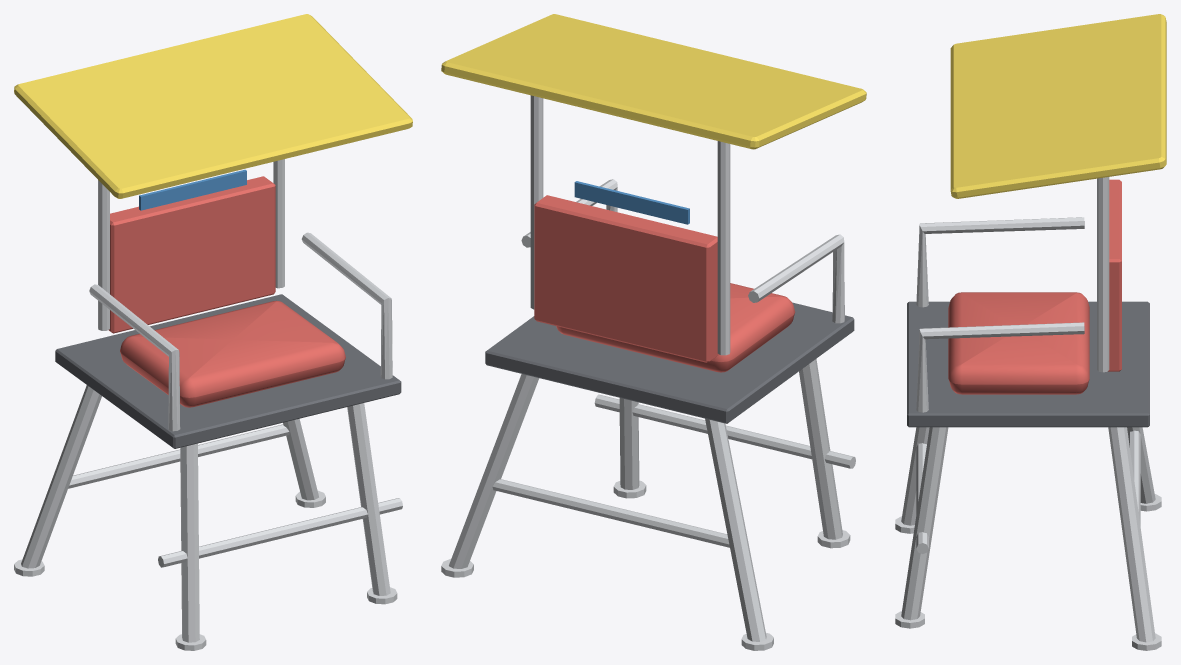
The model's file is public-swimming-baths-and-poolside-lifeguard-low-chair-f976fc78__35252.glb.
The picture shows the model from 3 angles, left to right: view 1: azimuth 30°, elevation 25°; view 2: azimuth 150°, elevation 25°; view 3: azimuth 270°, elevation 25°; orthographic projection. The views are drawn at different scales.
Visible parts, largest first — view 1: lifeguard-low-chair; view 2: lifeguard-low-chair; view 3: lifeguard-low-chair.
Part boxes in pixels (<box>): lifeguard-low-chair: <box>14,14,412,650</box>; lifeguard-low-chair: <box>441,14,866,650</box>; lifeguard-low-chair: <box>895,14,1166,650</box>.
Bounding box in the file's own units: 1.16 × 1.73 × 0.8715.
